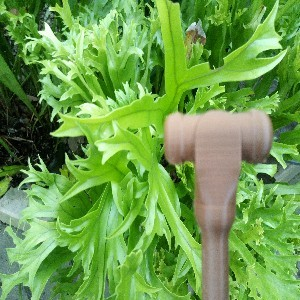palu: (163, 109, 274, 300)
